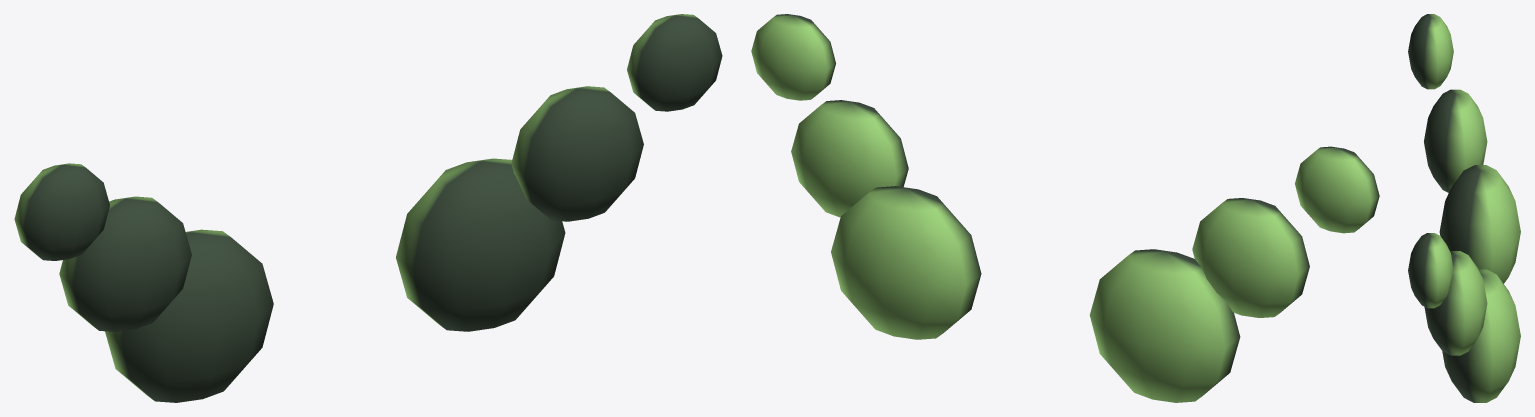
File: eyes_multi.glb
3 renders of one model, left to right at view 1: azimuth 30°, elevation 25°; view 2: azimuth 150°, elevation 25°; view 3: azimuth 270°, elevation 25°, orthographic. The views are drawn at different scales.
Parts seen in each view (by area): view 1: Sphere.003, Sphere, Sphere.004, Sphere.001, Sphere.002, Sphere.005; view 2: Sphere.003, Sphere, Sphere.001, Sphere.004, Sphere.002, Sphere.005; view 3: Sphere, Sphere.003, Sphere.001, Sphere.004, Sphere.005, Sphere.002.
Part boxes in pixels (x1,y1,x2,y2): Sphere.003: (396,158,565,331); Sphere: (105,229,273,402); Sphere.004: (511,86,643,221); Sphere.001: (59,196,191,331); Sphere.002: (14,163,109,260); Sphere.005: (627,14,722,111); Sphere.003: (831,186,981,339); Sphere: (1089,249,1240,402); Sphere.001: (1192,198,1309,317); Sphere.004: (791,100,908,217); Sphere.002: (1295,146,1379,233); Sphere.005: (751,14,835,100); Sphere: (1439,165,1520,283); Sphere.003: (1442,269,1520,402); Sphere.001: (1424,89,1487,192); Sphere.004: (1424,251,1487,355); Sphere.005: (1408,233,1453,308); Sphere.002: (1408,14,1453,89).
Size of the model in its own units: 0.479 by 0.196 by 0.0916.
